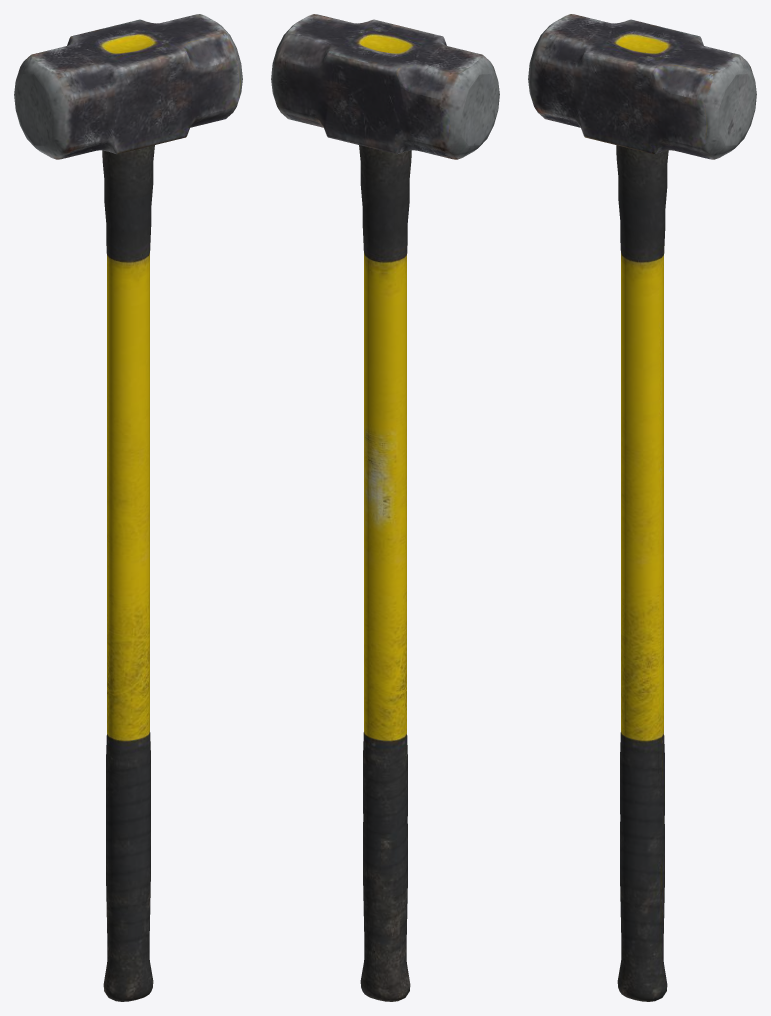
File: isl_sledge.glb
The picture shows the model from 3 angles, left to right: view 1: azimuth 30°, elevation 25°; view 2: azimuth 150°, elevation 25°; view 3: azimuth 330°, elevation 25°; orthographic projection.
Visible parts, largest first — view 1: sledgehammer_01; view 2: sledgehammer_01; view 3: sledgehammer_01.
Boxes of the visible parts, x1,y1,x2,y2 form: sledgehammer_01: (14,14,242,1001); sledgehammer_01: (271,14,499,1001); sledgehammer_01: (528,14,756,1001).
Size of the model in its own units: 0.2085 by 1.01 by 0.0906.
Materials: 1 (1 with a texture image).
